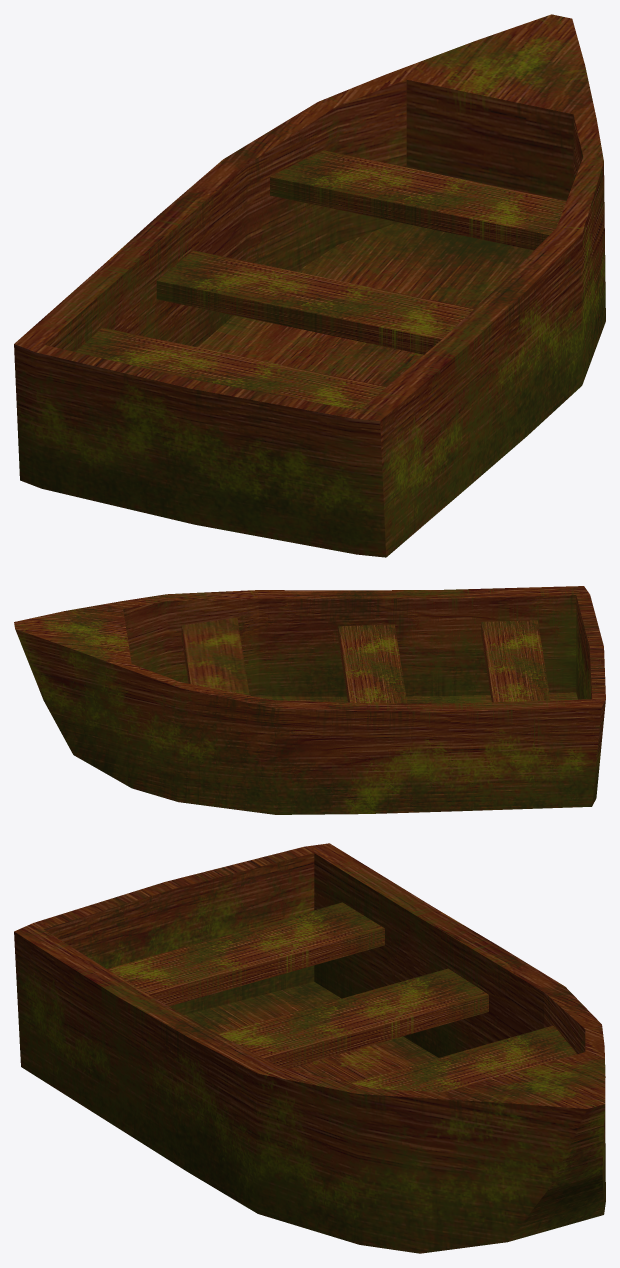
Rendered from BoatBoat 1.fbx.
3 views of the same model, one above another, from view 1: azimuth 30°, elevation 25°; view 2: azimuth 150°, elevation 25°; view 3: azimuth 270°, elevation 25° (orthographic). The views are drawn at different scales.
Parts seen in each view (by area): view 1: Boat_Mesh; view 2: Boat_Mesh; view 3: Boat_Mesh.
Part boxes in pixels (x1,y1,x2,y2): Boat_Mesh: [14, 14, 605, 557]; Boat_Mesh: [14, 586, 605, 814]; Boat_Mesh: [14, 843, 605, 1253].
Bounding box in the file's own units: 261 × 69.96 × 208.
